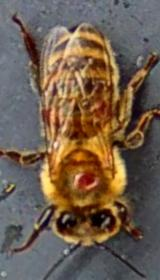varroa_mite: (66, 164, 108, 191)
